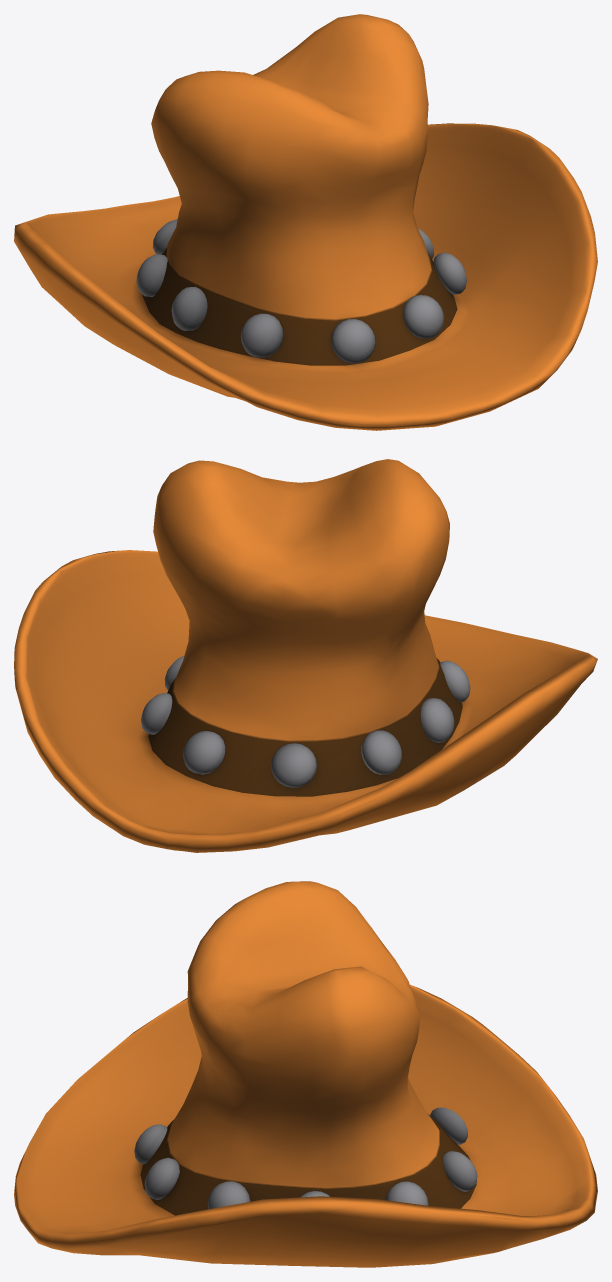
The model's file is hat.glb.
3 views of the same model, one above another, from view 1: azimuth 30°, elevation 25°; view 2: azimuth 150°, elevation 25°; view 3: azimuth 270°, elevation 25° (orthographic).
Visible parts, largest first — view 1: CowboyHat.1; view 2: CowboyHat.1; view 3: CowboyHat.1.
Part boxes in pixels (box(x1,y1,x2,y2)): CowboyHat.1: box(14, 14, 597, 430); CowboyHat.1: box(14, 459, 597, 852); CowboyHat.1: box(14, 881, 597, 1267).
Size of the model in its own units: 0.1271 by 0.0689 by 0.1303.
1 material, 1 textured.
